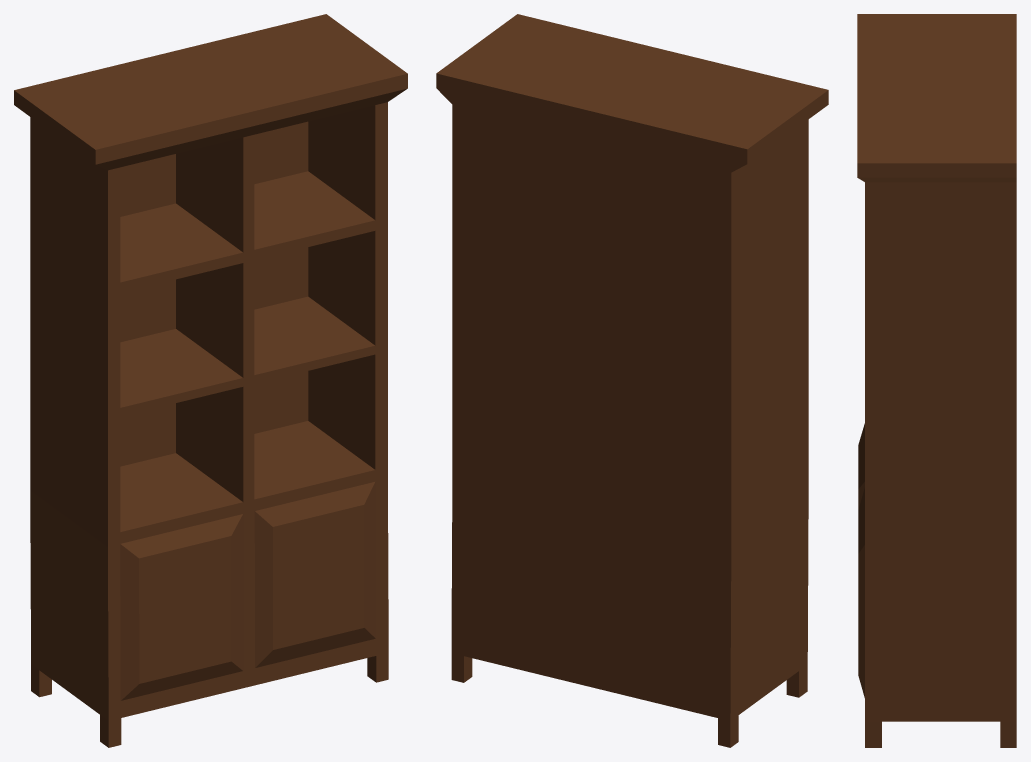
The model's file is bookshelf.fbx.
The picture shows the model from 3 angles, left to right: view 1: azimuth 30°, elevation 25°; view 2: azimuth 150°, elevation 25°; view 3: azimuth 270°, elevation 25°; orthographic projection. The views are drawn at different scales.
Visible parts, largest first — view 1: Plane; view 2: Plane; view 3: Plane.
Part boxes in pixels (bbox=[...]): Plane: bbox=[14, 14, 407, 747]; Plane: bbox=[436, 14, 828, 747]; Plane: bbox=[857, 14, 1016, 747].
Bounding box in the file's own units: 244 × 451 × 110.
